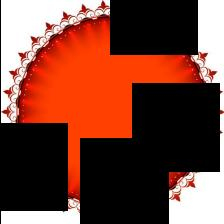red: (17, 17, 206, 207)
